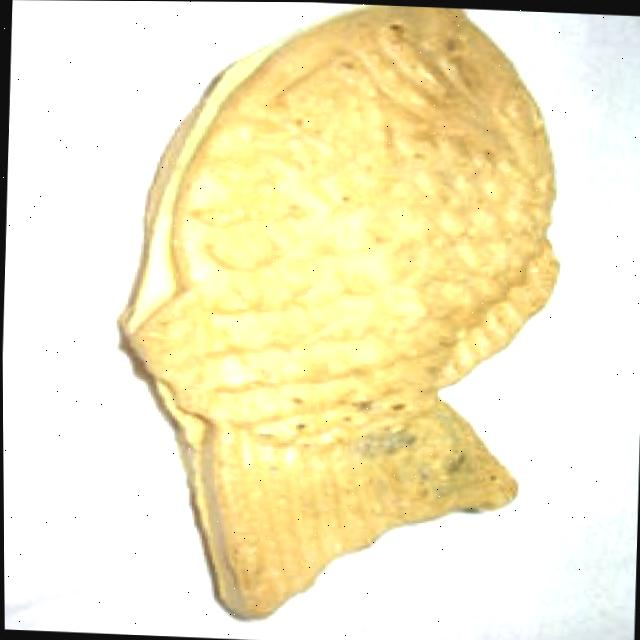熟制海鲜: (106, 1, 583, 626)
